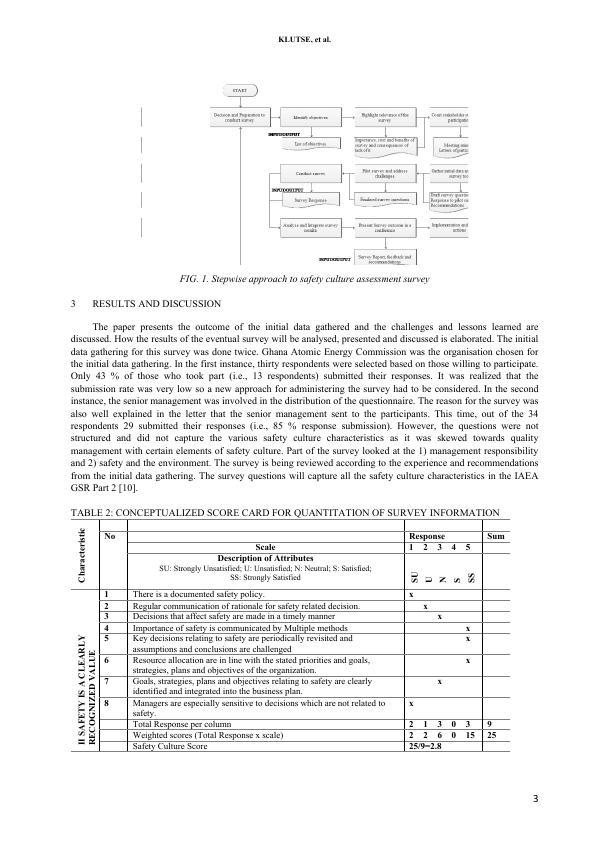table: (59, 517, 524, 758)
text: (66, 318, 542, 495), (67, 503, 504, 516), (171, 273, 431, 287), (67, 295, 223, 310)
